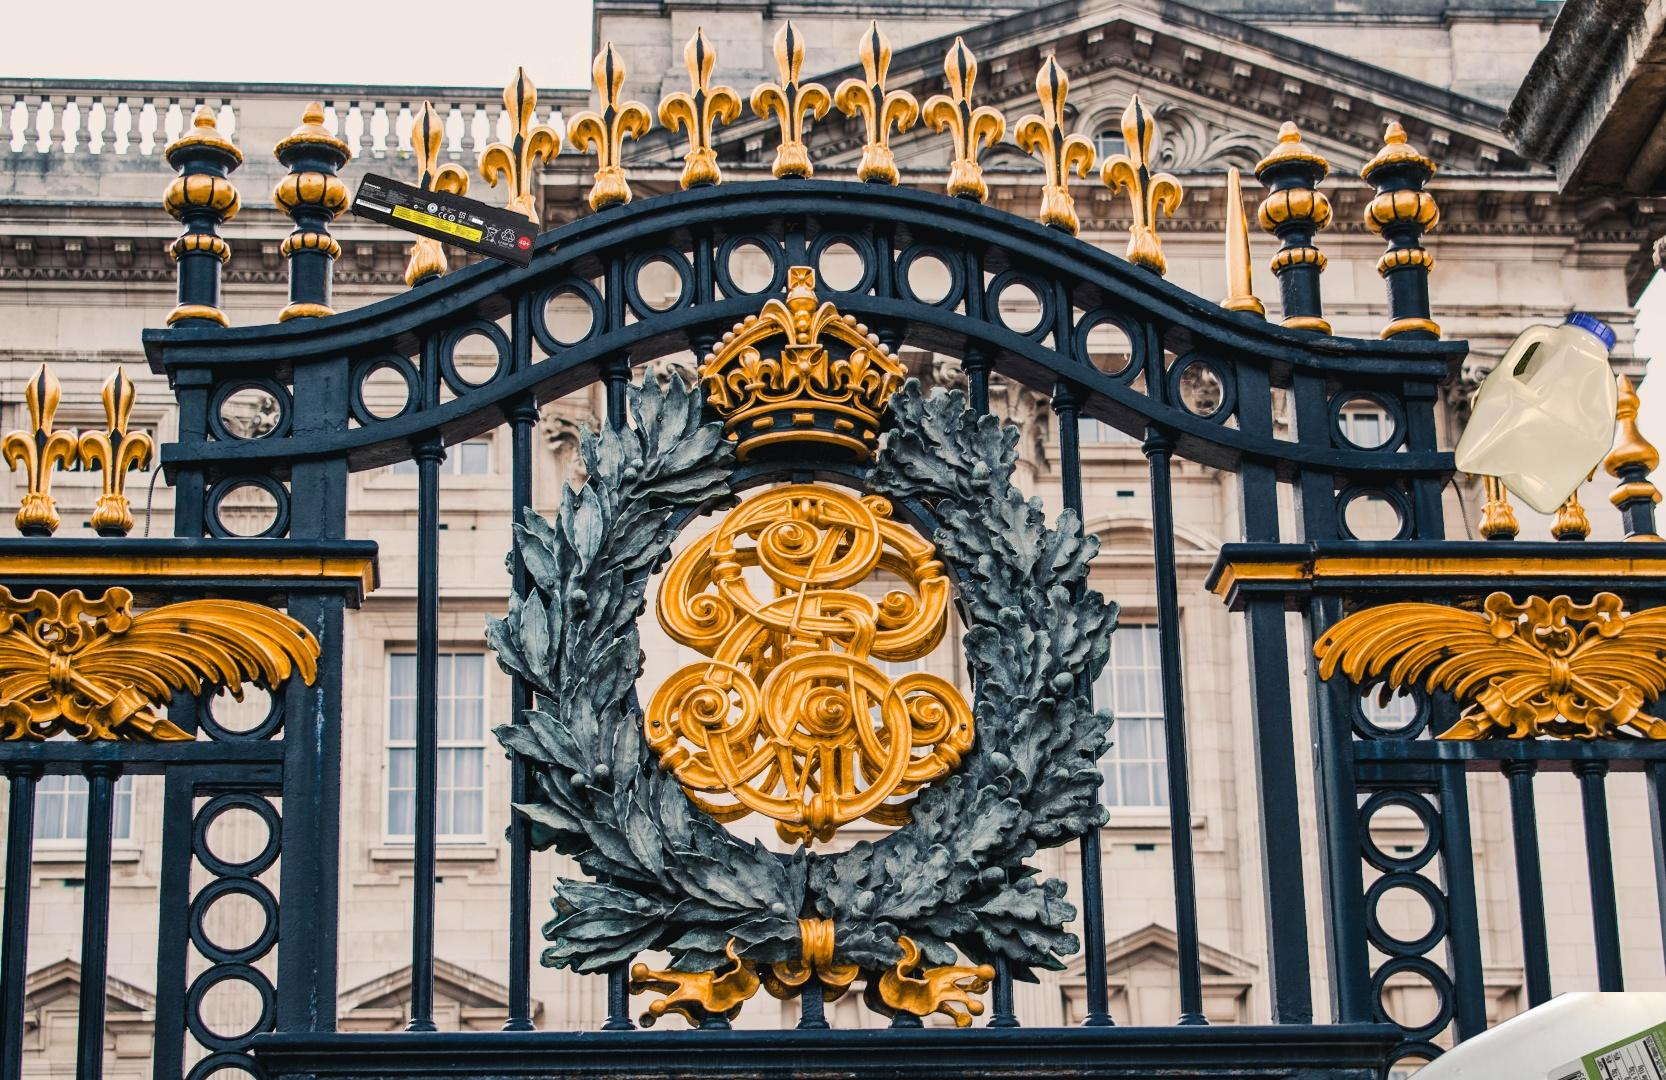battery: (348, 170, 543, 272)
plastic-bottles: (1172, 306, 1622, 895), (1309, 993, 1666, 1080)
